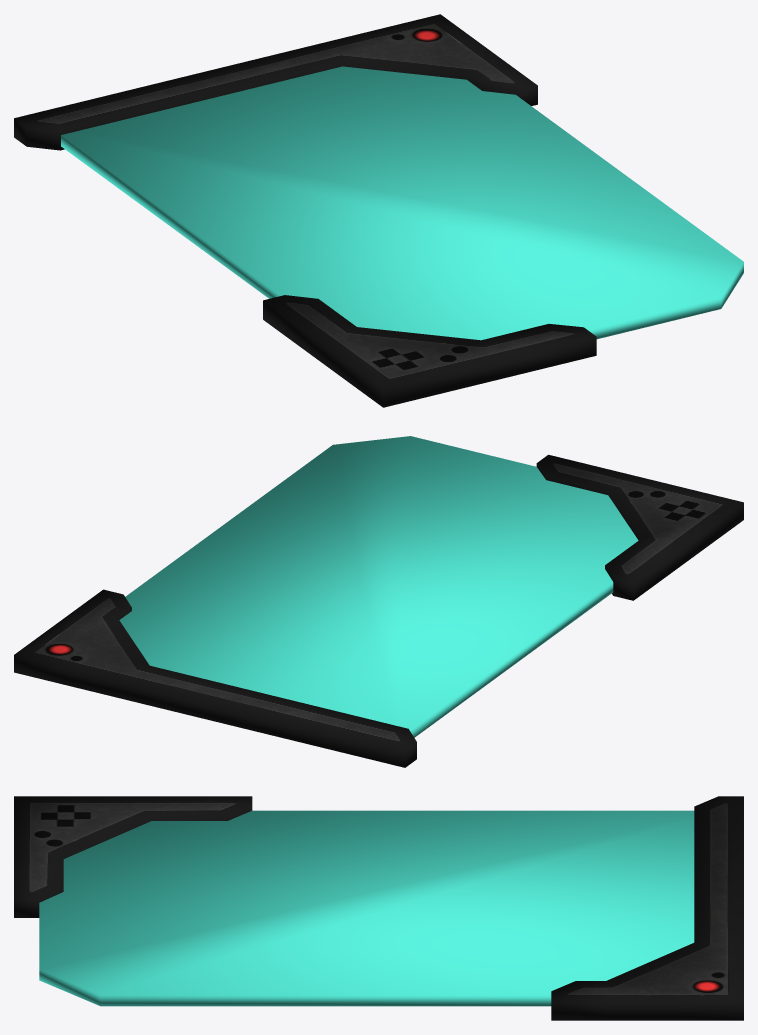
The model's file is tablet.gltf.
3 renders of one model, top to bottom at view 1: azimuth 30°, elevation 25°; view 2: azimuth 150°, elevation 25°; view 3: azimuth 270°, elevation 25°, orthographic. The views are drawn at different scales.
Parts seen in each view (by area): view 1: Tablet_Low, Tablet_Low.002; view 2: Tablet_Low, Tablet_Low.002; view 3: Tablet_Low, Tablet_Low.002.
Part boxes in pixels (x1,y1,x2,y2): Tablet_Low: [61, 66, 743, 340]; Tablet_Low.002: [14, 14, 596, 407]; Tablet_Low: [119, 436, 638, 737]; Tablet_Low.002: [14, 454, 743, 767]; Tablet_Low: [39, 810, 694, 1006]; Tablet_Low.002: [14, 796, 743, 1020].
Bounding box in the file's own units: 1.33 × 0.0572 × 2.
2 materials, 2 textured.
